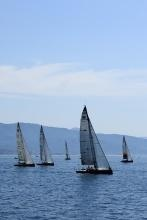fanchuan: (69, 101, 117, 177), (12, 118, 33, 172), (36, 123, 57, 169), (120, 132, 140, 164), (65, 137, 77, 163)
